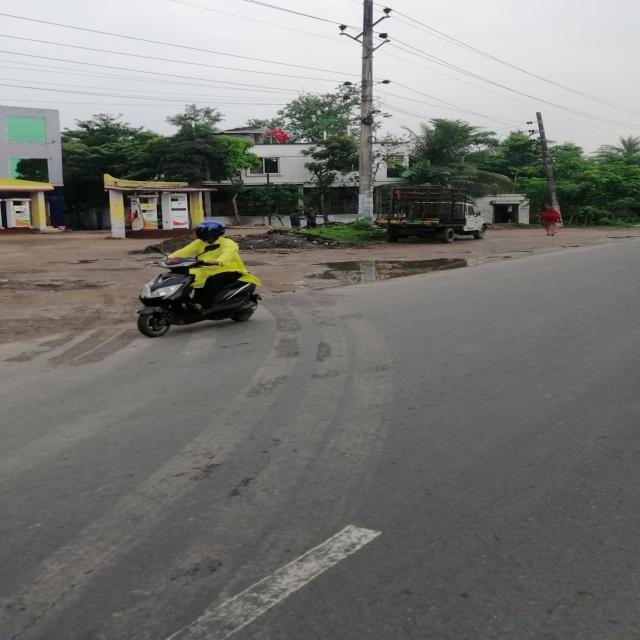Motorbike: (81, 249, 311, 372)
